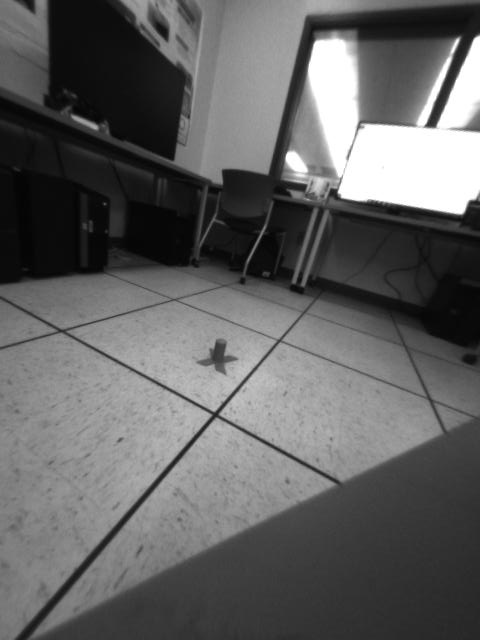X: (194, 338, 239, 376)
